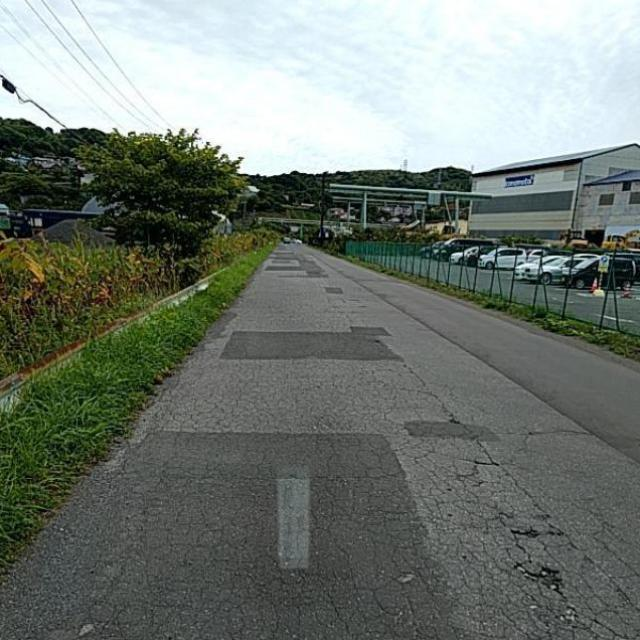Sambungan: (0, 429, 472, 640), (220, 326, 400, 363)
